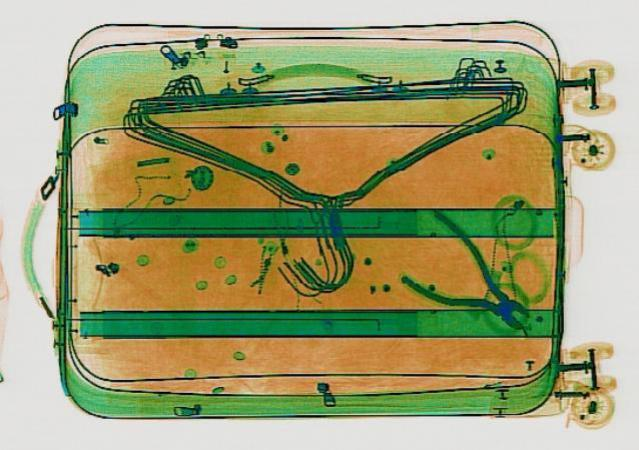Pliers: (358, 207, 565, 344)
